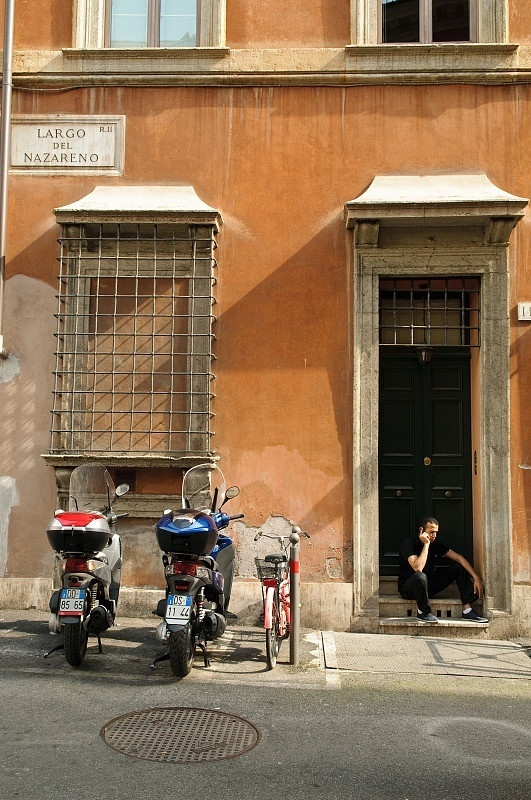non-vehicle: (143, 476, 242, 673), (43, 465, 134, 657), (248, 515, 302, 674)
